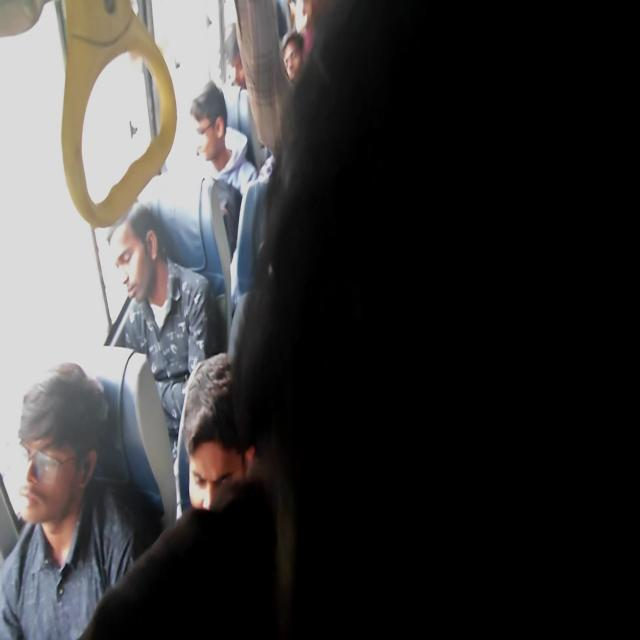person: (227, 0, 639, 638), (77, 352, 281, 638), (0, 361, 136, 638), (107, 201, 221, 519), (178, 351, 250, 514), (189, 80, 258, 196), (223, 23, 247, 88), (280, 30, 304, 81)
